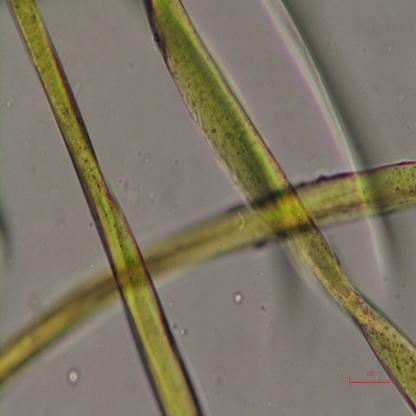Background material: (272, 1, 368, 168), (258, 245, 314, 359), (367, 216, 405, 285), (0, 206, 25, 274), (66, 369, 81, 384), (233, 291, 244, 310)
Microfibre: (144, 0, 415, 413), (0, 157, 416, 384), (5, 0, 202, 414)
